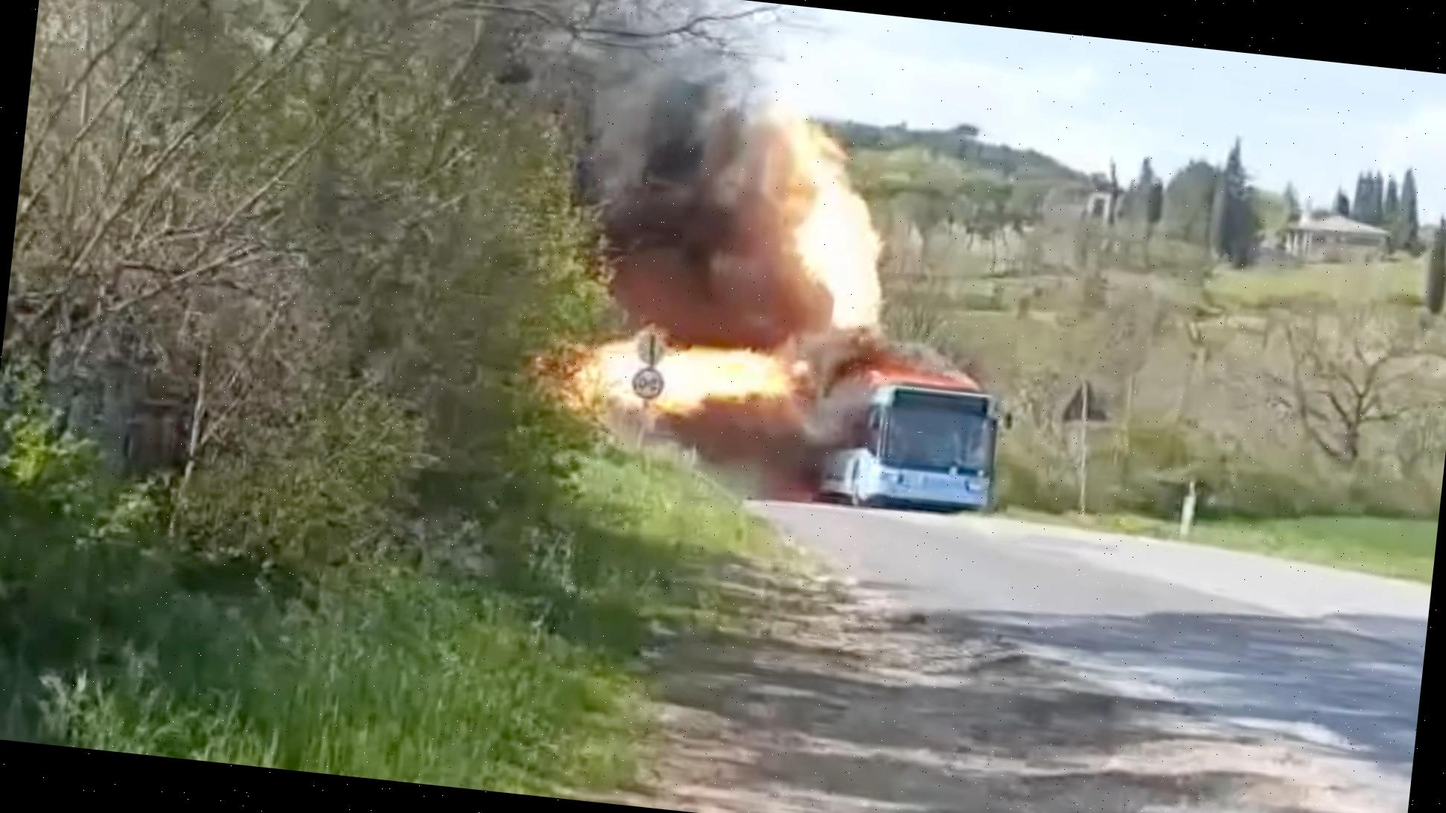fire: (777, 191, 888, 391)
smoke: (238, 0, 833, 346)
